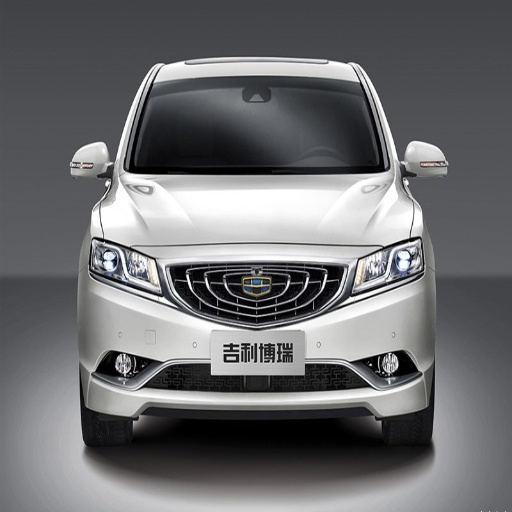front_bumper: (83, 247, 430, 421)
front_right_light: (89, 235, 167, 301)
hood: (104, 172, 414, 248)
left_mirror: (402, 140, 447, 178)
